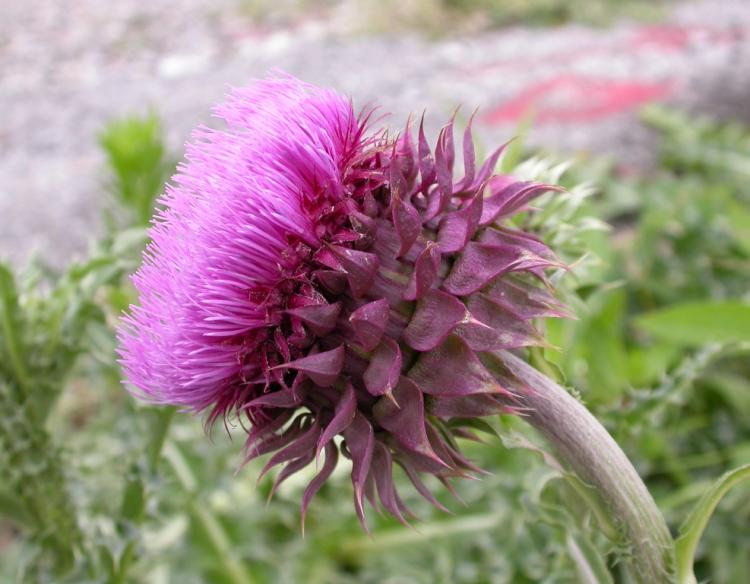thistle: (108, 68, 556, 502)
